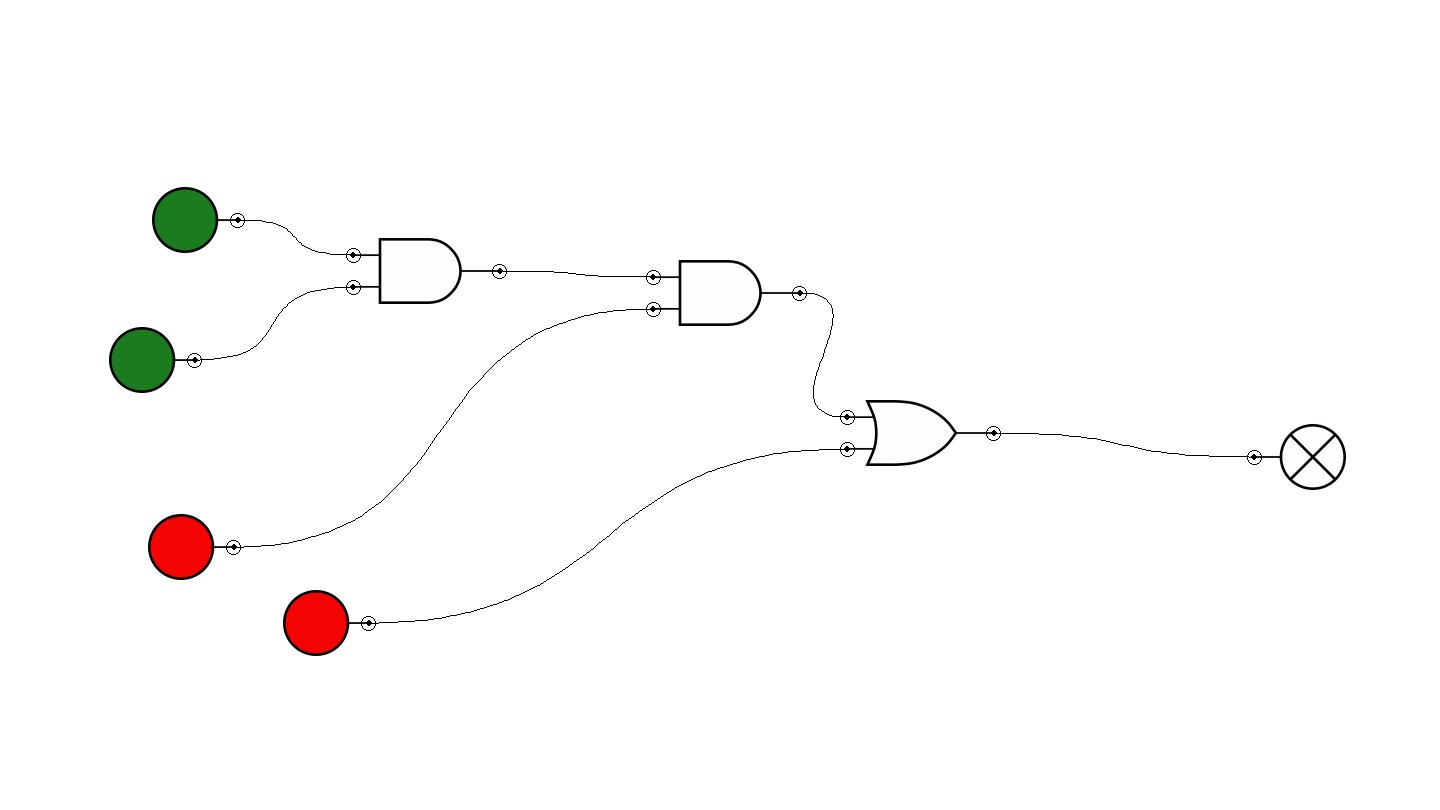and: (346, 238, 507, 304), (646, 260, 807, 326)
bulb: (1247, 424, 1346, 490)
or: (840, 400, 1001, 466)
switch_False: (148, 514, 241, 580), (283, 590, 376, 656)
switch_True: (109, 327, 202, 393), (152, 187, 245, 253)
